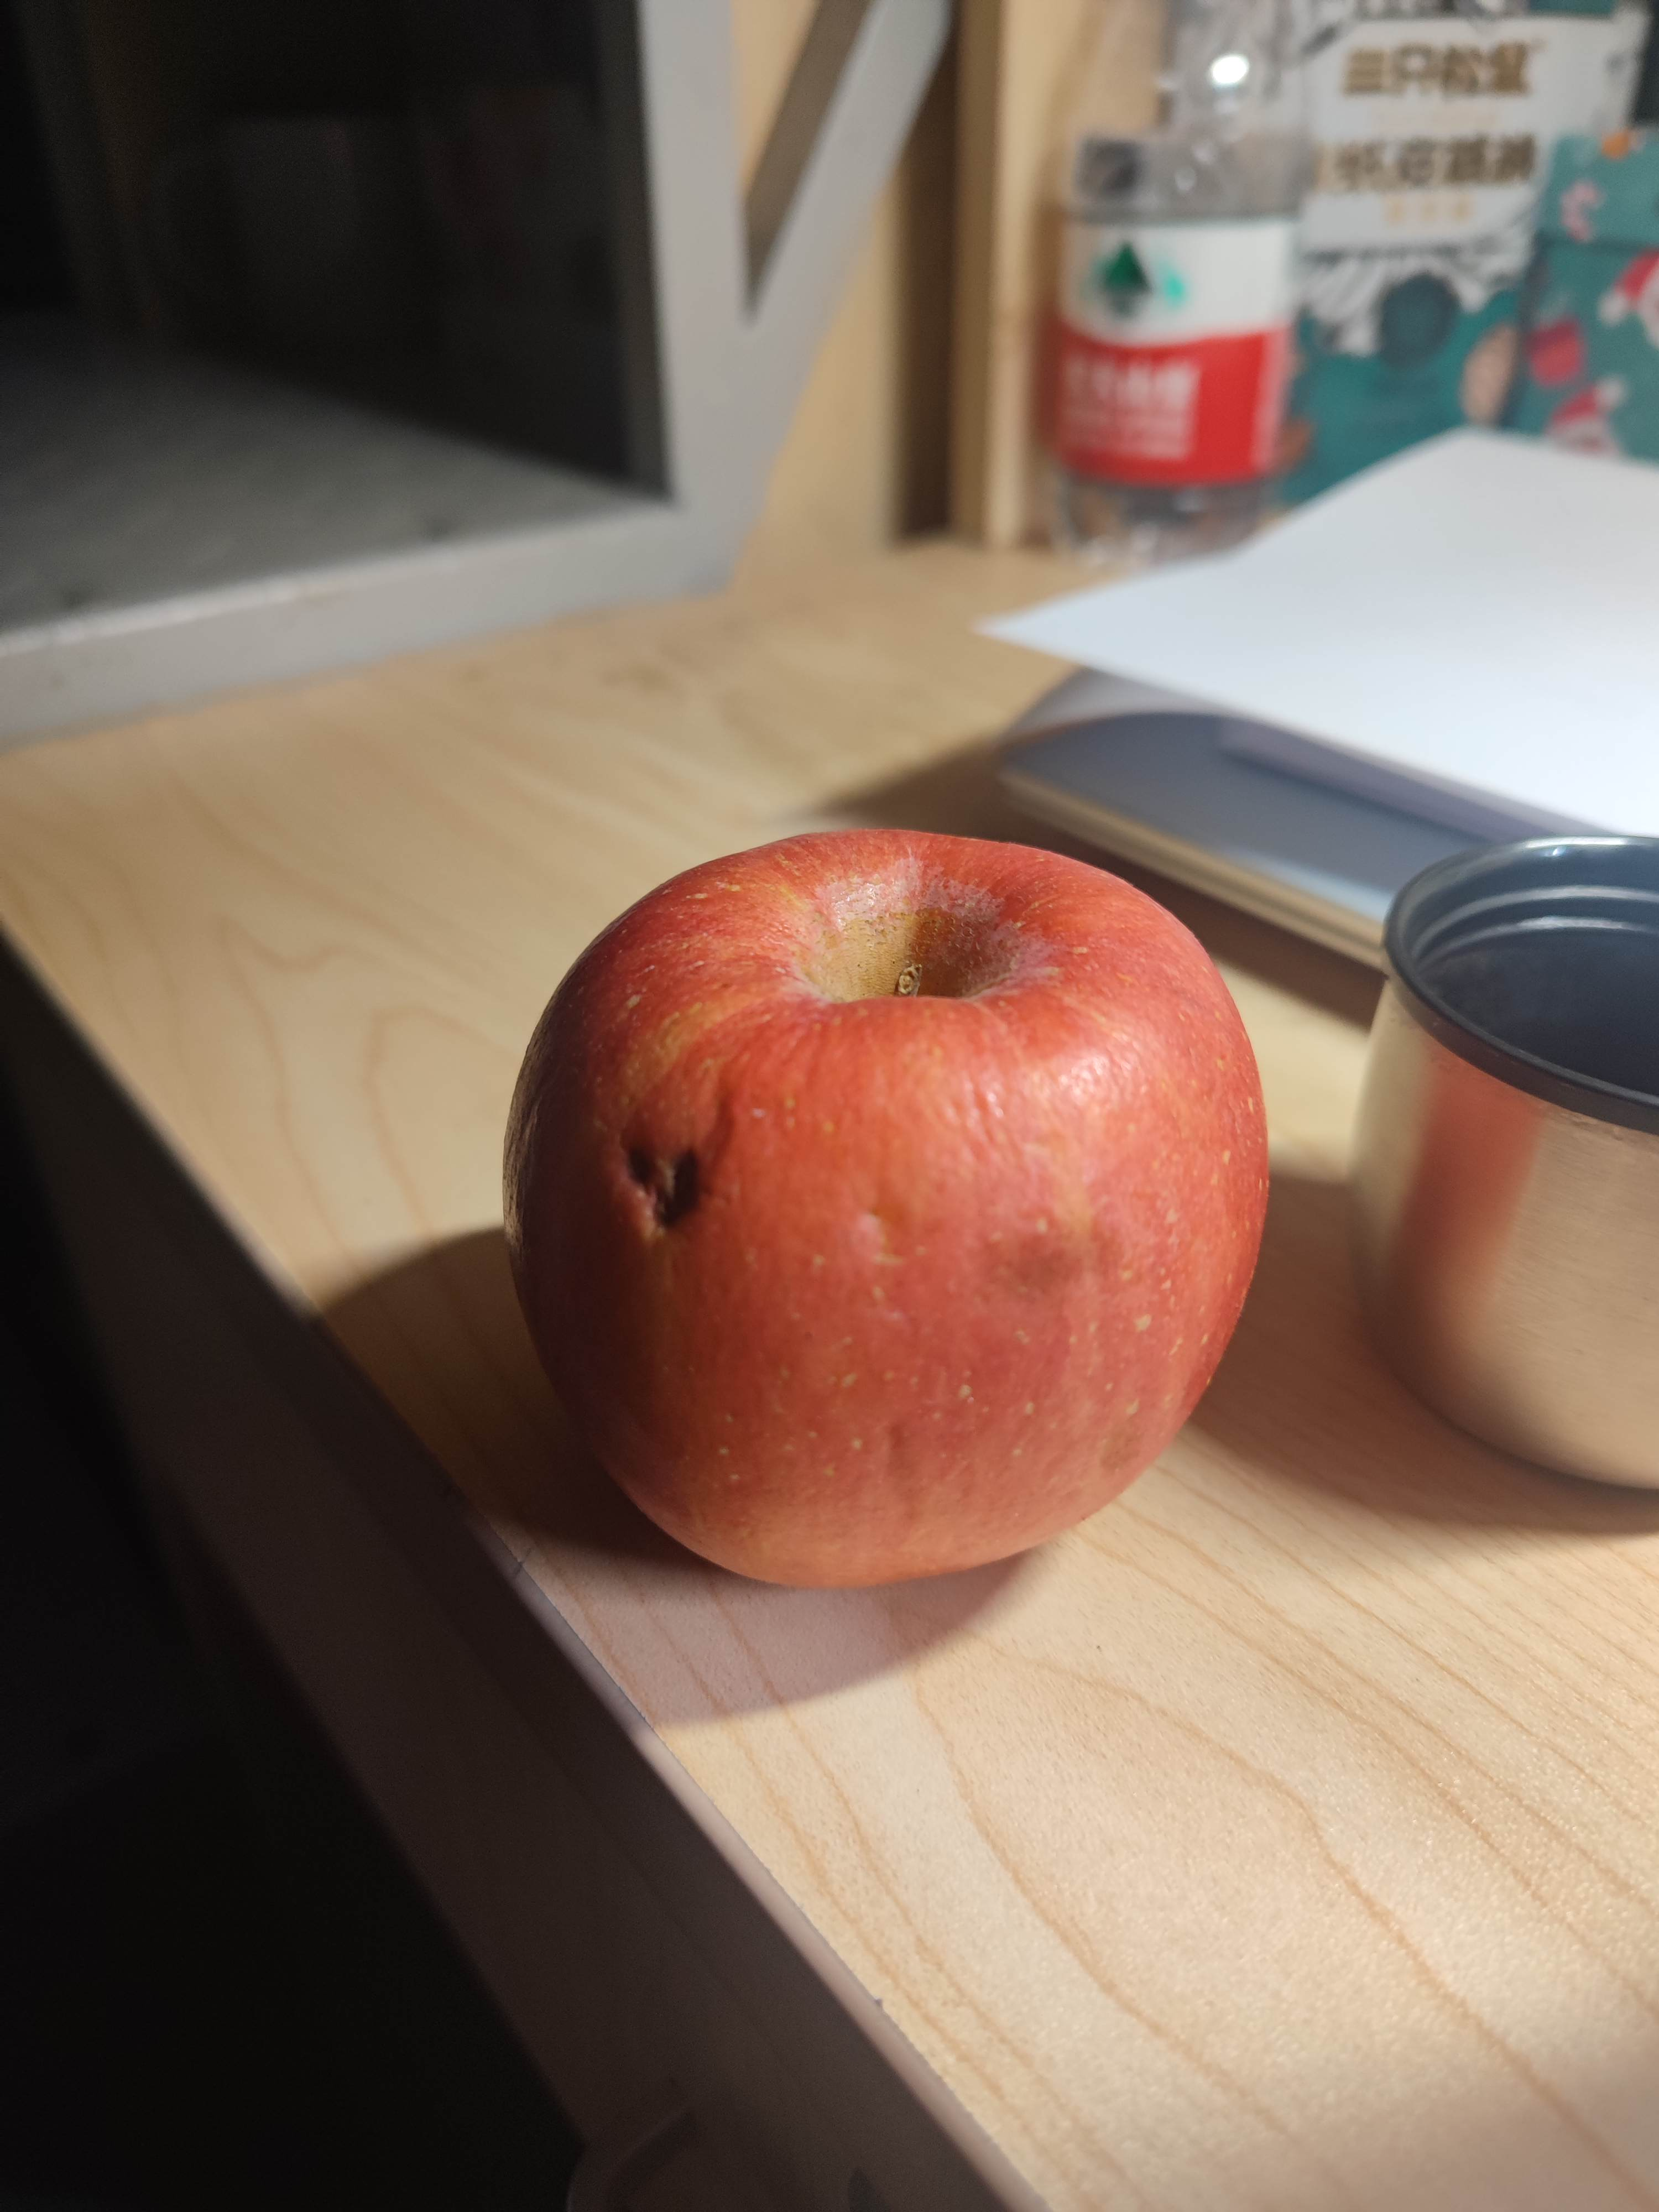apple: (497, 808, 1277, 1601)
